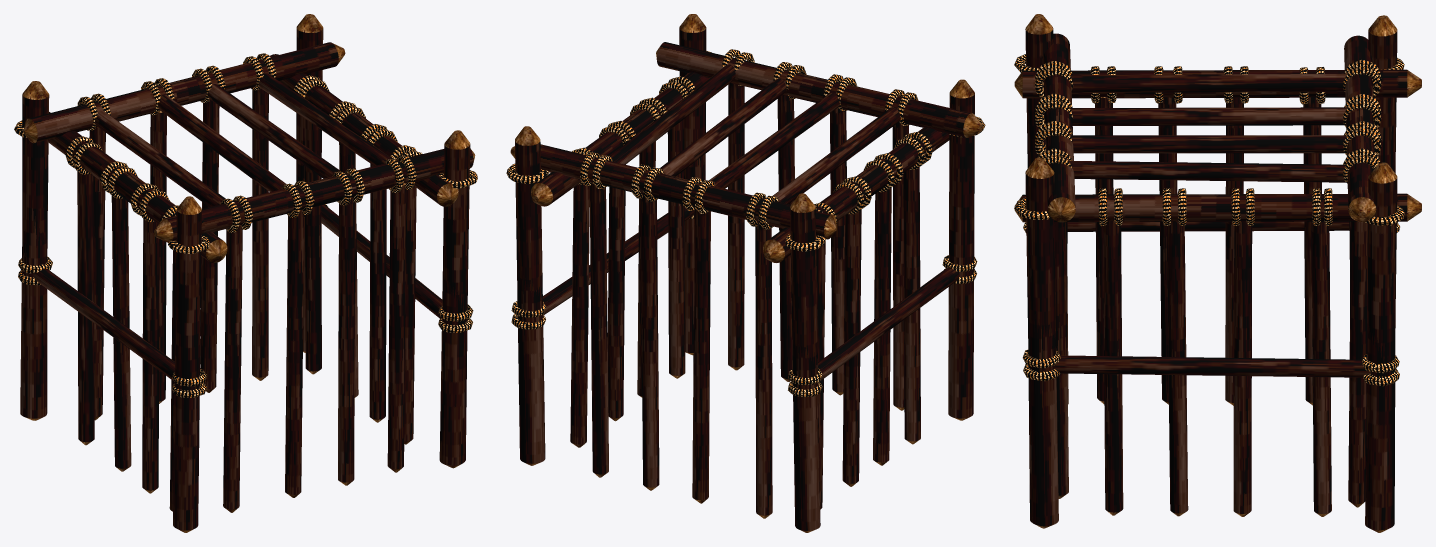
Rendered from cage.glb.
The picture shows the model from 3 angles, left to right: view 1: azimuth 30°, elevation 25°; view 2: azimuth 150°, elevation 25°; view 3: azimuth 270°, elevation 25°; orthographic projection. The views are drawn at different scales.
Visible parts, largest first — view 1: Cylinder.001, Cylinder.039, Cylinder.004, Cylinder.027, Cylinder.005, Cylinder.003, Cylinder.002, Cylinder.008, Cylinder.021, Cylinder.022, Cylinder.009, Cylinder.020 (+21 smaller); view 2: Cylinder.001, Cylinder.004, Cylinder.039, Cylinder.012, Cylinder.013, Cylinder.011, Cylinder.014, Cylinder.017, Cylinder.028, Cylinder.006, Cylinder.020, Cylinder.019 (+21 smaller); view 3: Cylinder.043, Cylinder.029, Cylinder.010, Cylinder.017, Cylinder.025, Cylinder.006, Cylinder.016, Cylinder.026, Cylinder.024, Cylinder.015, Cylinder.023, Cylinder.007 (+15 smaller).
Part boxes in pixels (left/top/right/bottom): Cylinder.001: left=173, top=196, right=201, bottom=532; Cylinder.039: left=23, top=42, right=345, bottom=143; Cylinder.004: left=154, top=148, right=475, bottom=242; Cylinder.027: left=22, top=81, right=47, bottom=420; Cylinder.005: left=338, top=197, right=355, bottom=485; Cylinder.003: left=285, top=209, right=304, bottom=497; Cylinder.002: left=223, top=225, right=242, bottom=512; Cylinder.008: left=387, top=183, right=406, bottom=472; Cylinder.021: left=111, top=195, right=131, bottom=471; Cylinder.022: left=77, top=171, right=94, bottom=445; Cylinder.009: left=439, top=130, right=470, bottom=468; Cylinder.020: left=142, top=218, right=159, bottom=493; Cylinder.001: left=948, top=79, right=974, bottom=420; Cylinder.004: left=656, top=42, right=982, bottom=137; Cylinder.039: left=510, top=144, right=836, bottom=239; Cylinder.012: left=640, top=195, right=659, bottom=490; Cylinder.013: left=692, top=208, right=710, bottom=503; Cylinder.011: left=589, top=182, right=608, bottom=477; Cylinder.014: left=755, top=223, right=772, bottom=518; Cylinder.017: left=515, top=126, right=545, bottom=465; Cylinder.028: left=790, top=193, right=820, bottom=532; Cylinder.006: left=570, top=184, right=589, bottom=447; Cylinder.020: left=873, top=188, right=891, bottom=465; Cylinder.019: left=903, top=167, right=920, bottom=444; Cylinder.043: left=1014, top=193, right=1421, bottom=222; Cylinder.029: left=1054, top=355, right=1371, bottom=377; Cylinder.010: left=1025, top=157, right=1058, bottom=528; Cylinder.017: left=1367, top=163, right=1395, bottom=530; Cylinder.025: left=1070, top=135, right=1346, bottom=153; Cylinder.006: left=1311, top=221, right=1331, bottom=516; Cylinder.016: left=1103, top=220, right=1123, bottom=515; Cylinder.026: left=1069, top=161, right=1345, bottom=182; Cylinder.024: left=1070, top=107, right=1347, bottom=125; Cylinder.015: left=1166, top=221, right=1188, bottom=516; Cylinder.023: left=1070, top=73, right=1346, bottom=92; Cylinder.007: left=1233, top=221, right=1252, bottom=516.
Bounding box in the file's own units: 2.39 × 2.4 × 2.35.
Materials: 74 (74 with a texture image).
